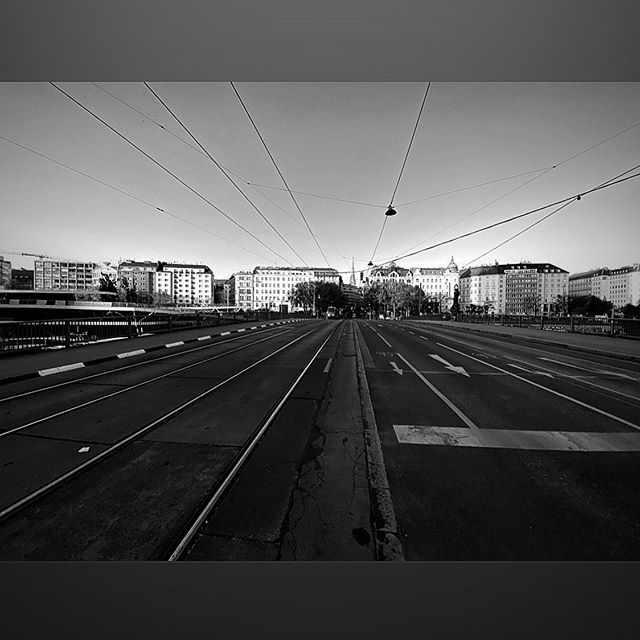building: (462, 265, 577, 323), (108, 257, 223, 315), (228, 263, 343, 321), (350, 261, 465, 319), (10, 254, 96, 307)
sky: (1, 84, 640, 255)
street: (1, 323, 640, 640)
